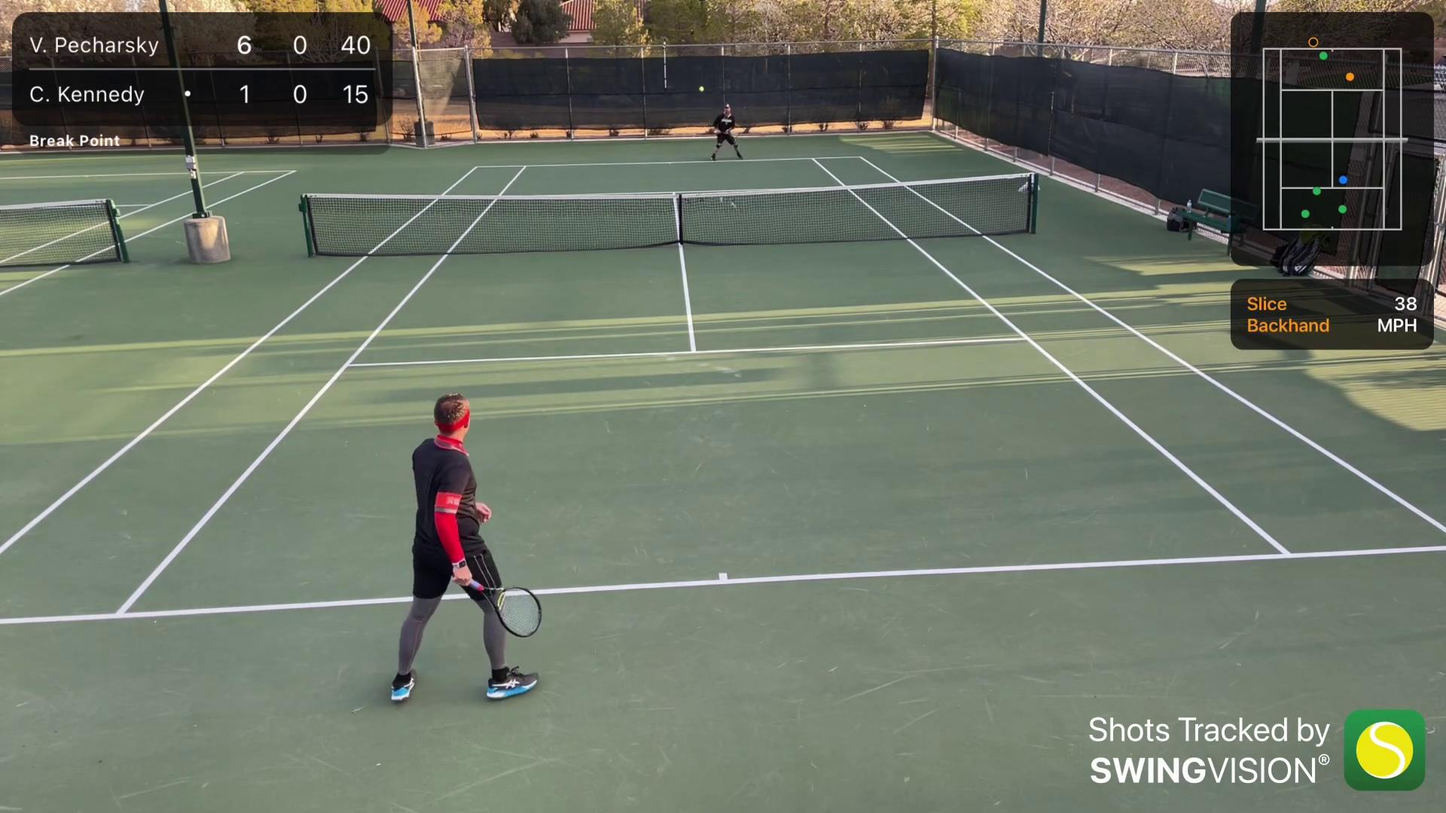ball: (699, 86, 703, 91)
